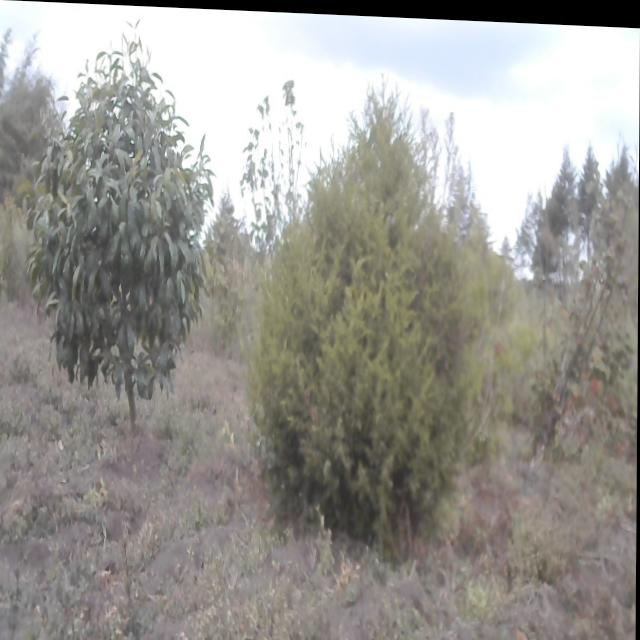Hass Avocado: (29, 19, 210, 429)
cedrus: (249, 69, 496, 554), (542, 136, 579, 281), (609, 126, 639, 246), (583, 129, 609, 262)
other: (239, 76, 315, 232)
